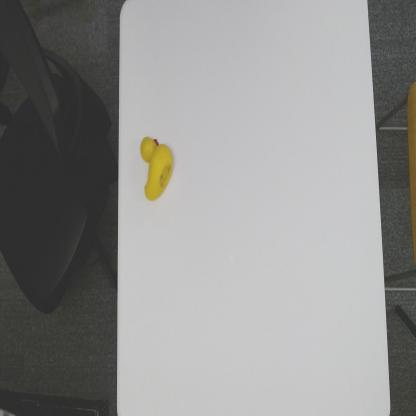Duck: (139, 134, 174, 202)
